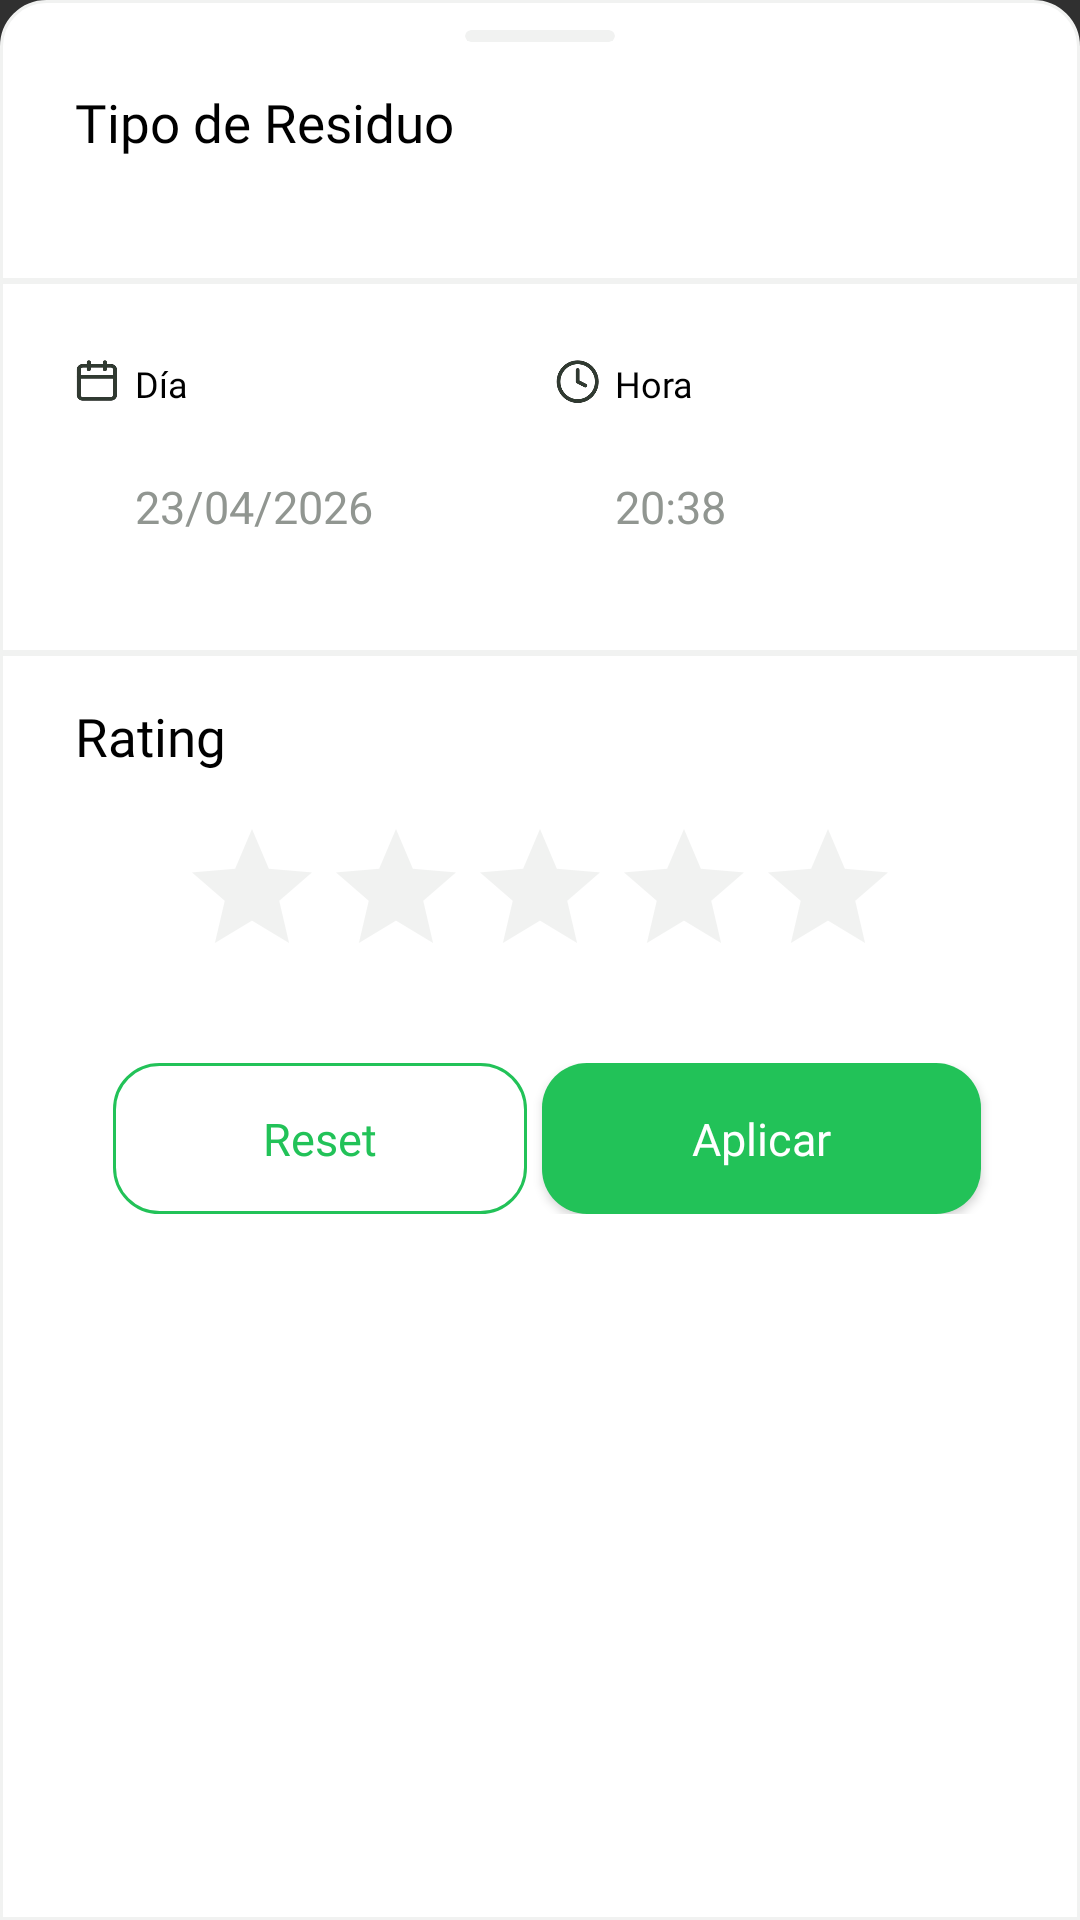

Icons on this 1080 x 1920 Android screen, each with the point to tap as [x,y]:
calendario: [97,380]
reloj: [577,381]
